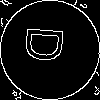D: (25, 25, 73, 65)
